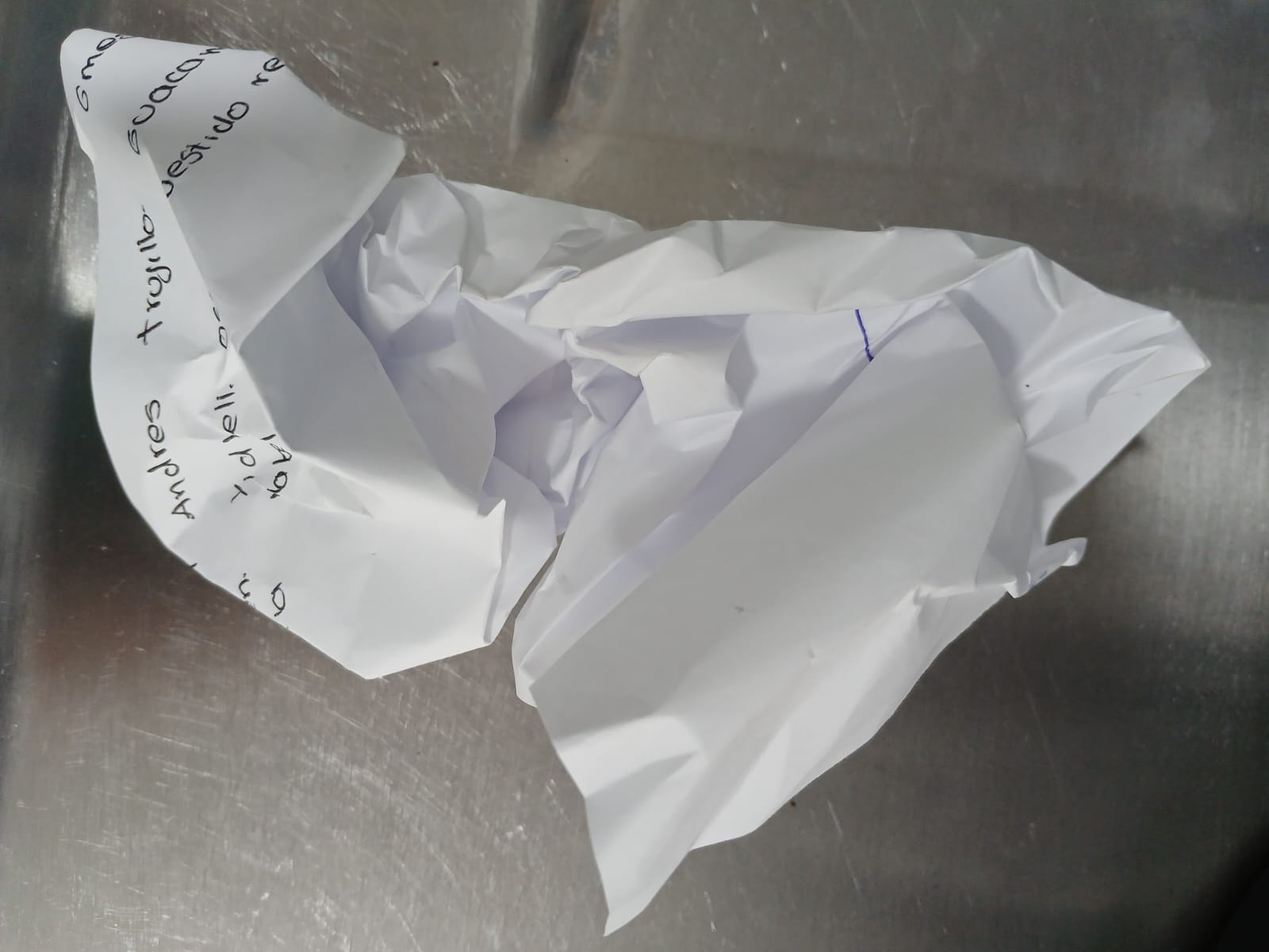Papel: (57, 29, 1216, 936)
